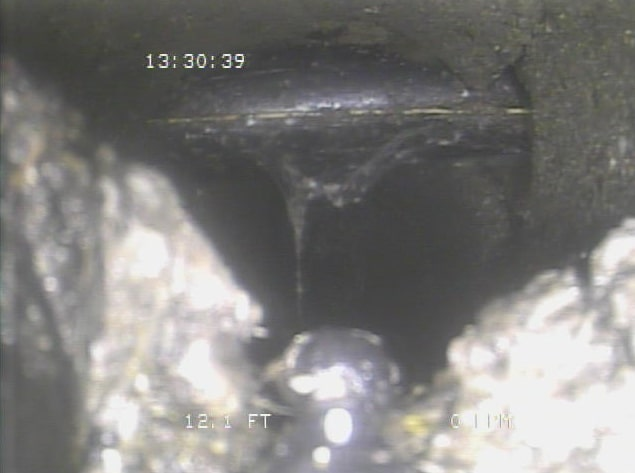cb: (97, 52, 566, 190)
